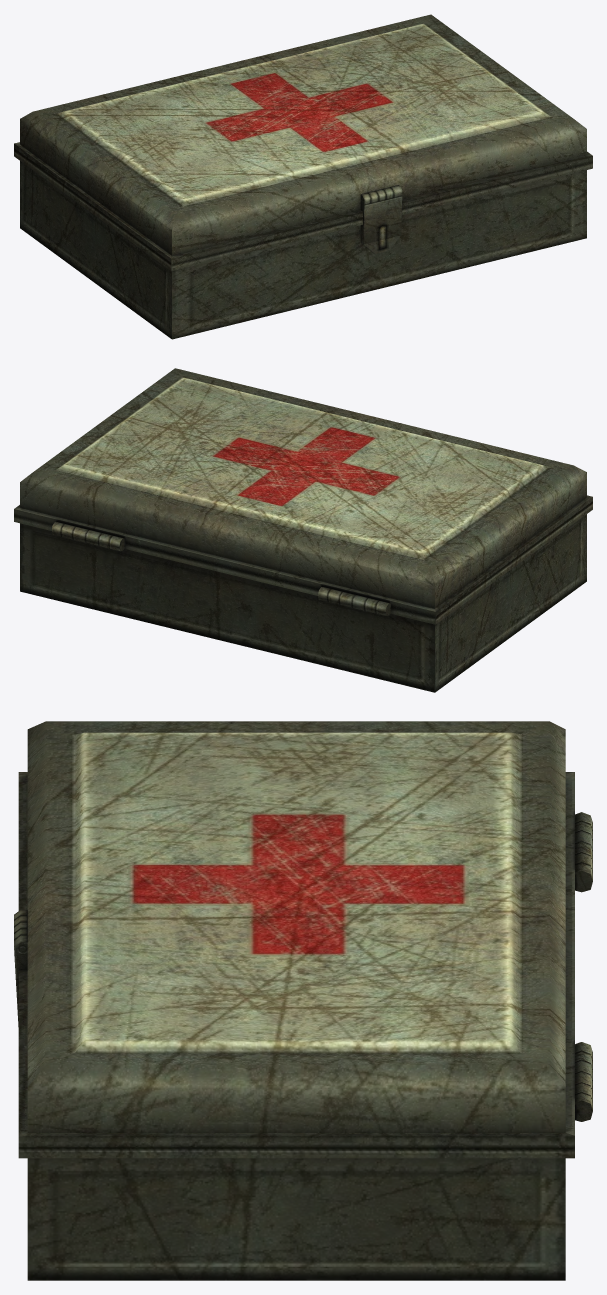
File: medi.obj
3 views of the same model, one above another, from view 1: azimuth 30°, elevation 25°; view 2: azimuth 150°, elevation 25°; view 3: azimuth 270°, elevation 25° (orthographic). The views are drawn at different scales.
Parts seen in each view (by area): view 1: whole; view 2: whole; view 3: whole.
Boxes of the visible parts, <box> form: whole: <box>14,14,592,339</box>; whole: <box>14,368,592,692</box>; whole: <box>14,721,592,1280</box>.
Size of the model in its own units: 17.09 by 4.69 by 11.49.
1 material, 1 textured.
